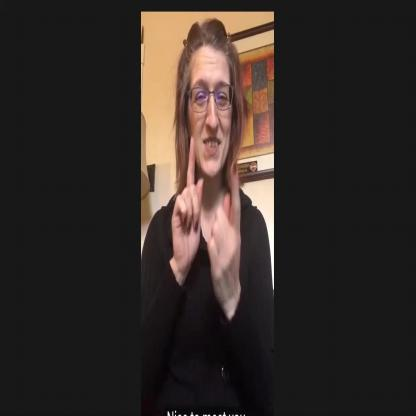NiceToMeetYou: (167, 136, 256, 318)
